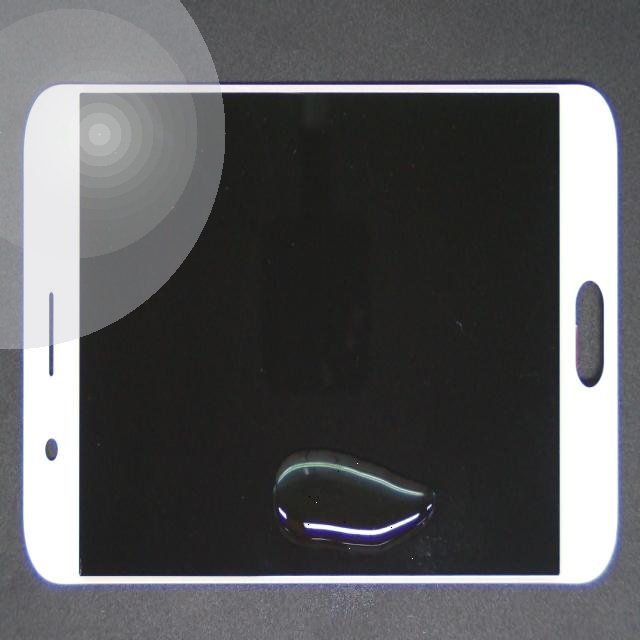oil: (138, 214, 415, 640)
